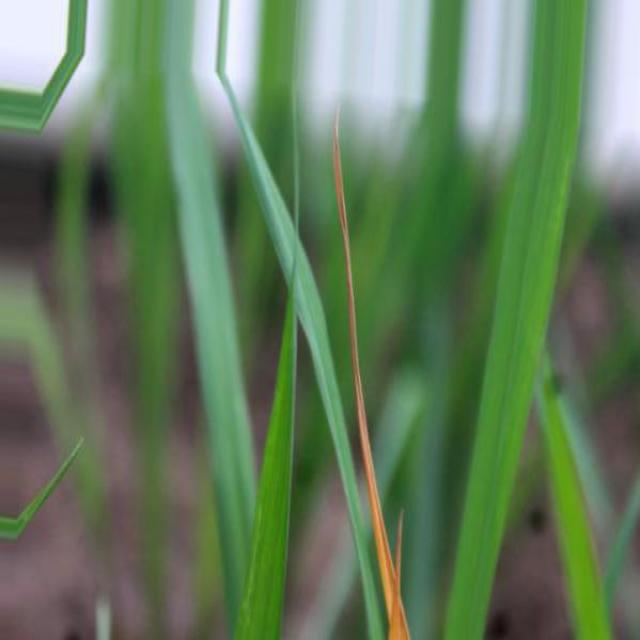Rice Tungro: (332, 110, 410, 639)
